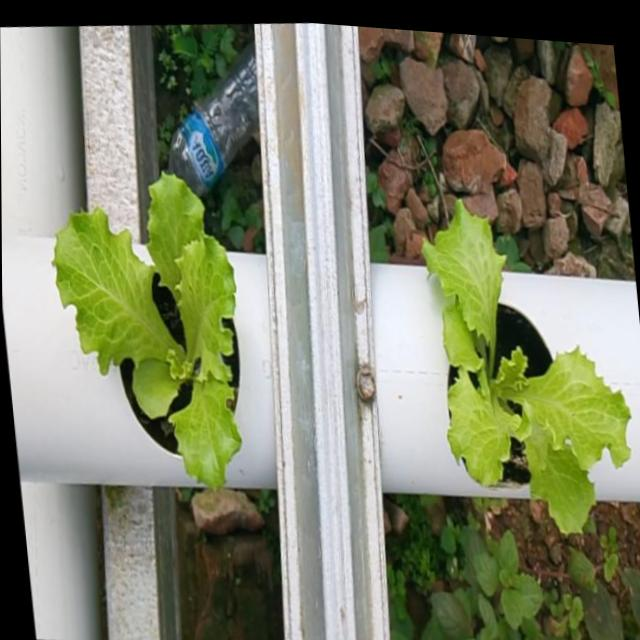Baby: (426, 206, 636, 541), (57, 177, 247, 497)
